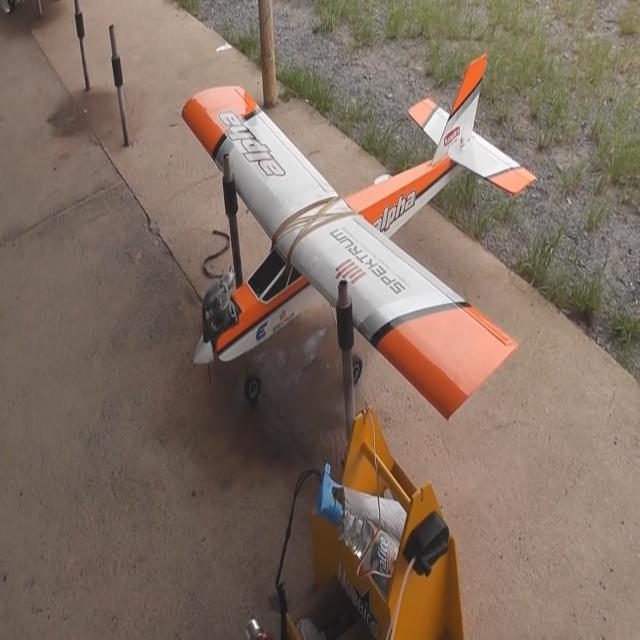iha: (180, 50, 540, 422)
